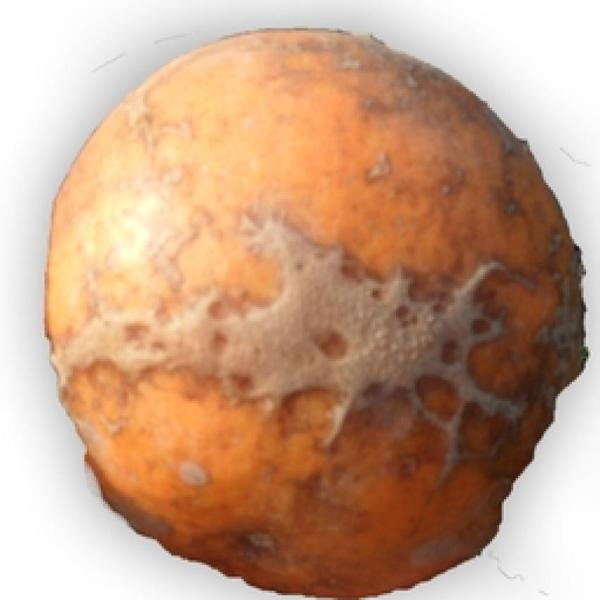Canker: (18, 17, 592, 594)
